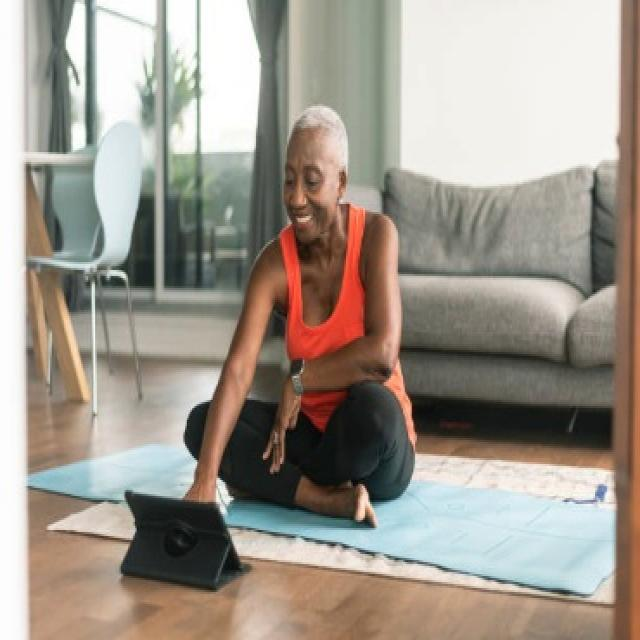adult: (172, 108, 427, 522)
